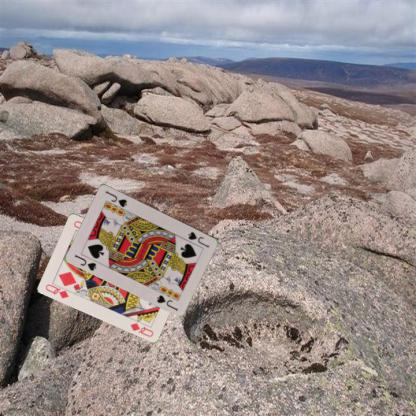Js: (185, 229, 211, 249), (72, 252, 98, 272)
Qd: (43, 280, 74, 300)
